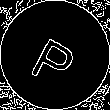P_NE: (27, 24, 83, 86)
